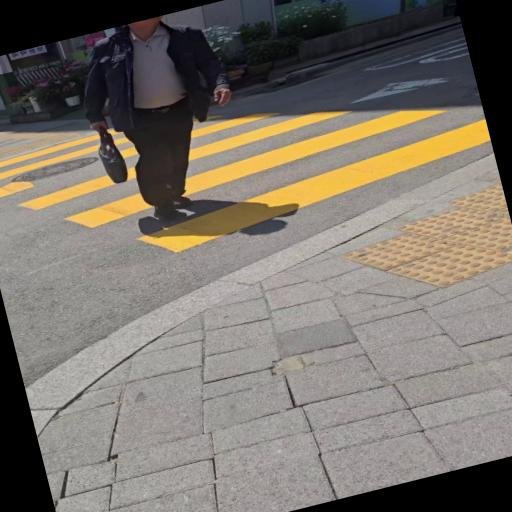yellow-crosswalk: (0, 34, 501, 305)
